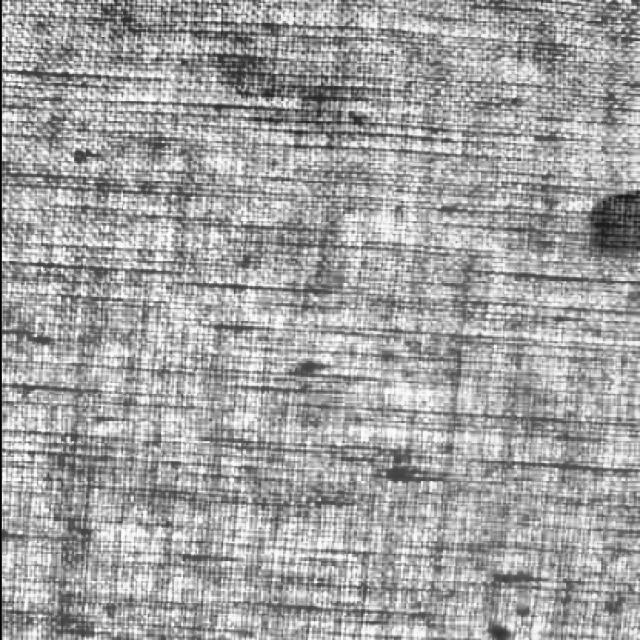oil_spot: (580, 178, 640, 264)
